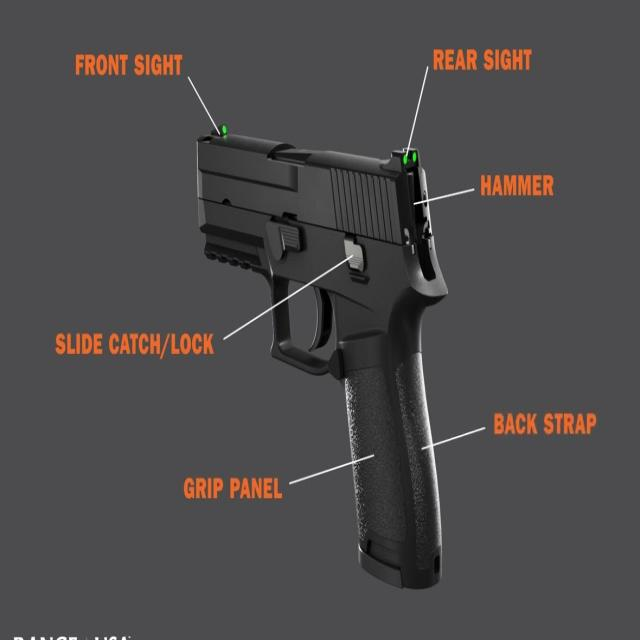Weapon: (197, 129, 447, 588)
